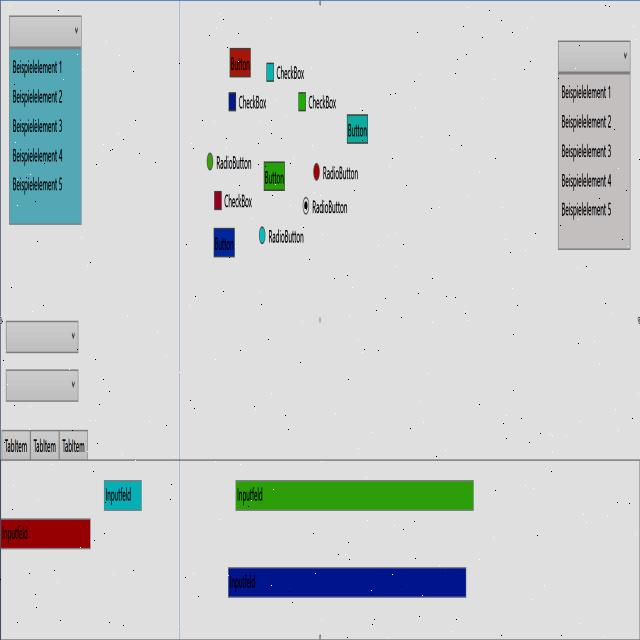button: (228, 44, 252, 81), (213, 224, 236, 260), (263, 158, 286, 193), (346, 112, 369, 146)
checkbox: (213, 187, 223, 213), (228, 87, 237, 114), (265, 60, 275, 84), (298, 89, 307, 114)
dropdownMenu: (557, 35, 631, 253), (8, 12, 82, 228), (5, 365, 80, 405), (5, 316, 79, 355)
input: (227, 562, 467, 602), (235, 476, 475, 514), (0, 513, 92, 553), (103, 476, 143, 514)
label: (268, 225, 306, 251), (216, 150, 253, 174), (322, 162, 360, 185), (312, 196, 348, 217), (238, 91, 267, 114), (308, 92, 338, 114), (276, 61, 306, 82), (224, 189, 253, 209)
menuItem: (561, 199, 613, 222), (561, 82, 606, 108), (12, 172, 64, 193), (13, 115, 64, 136), (561, 170, 612, 191), (562, 141, 612, 162), (12, 145, 64, 165), (12, 56, 64, 76), (12, 84, 63, 104), (562, 112, 613, 132)
radio: (206, 149, 214, 173), (258, 222, 266, 246), (302, 194, 309, 216), (313, 160, 320, 182)
tabControl: (0, 421, 91, 468)
